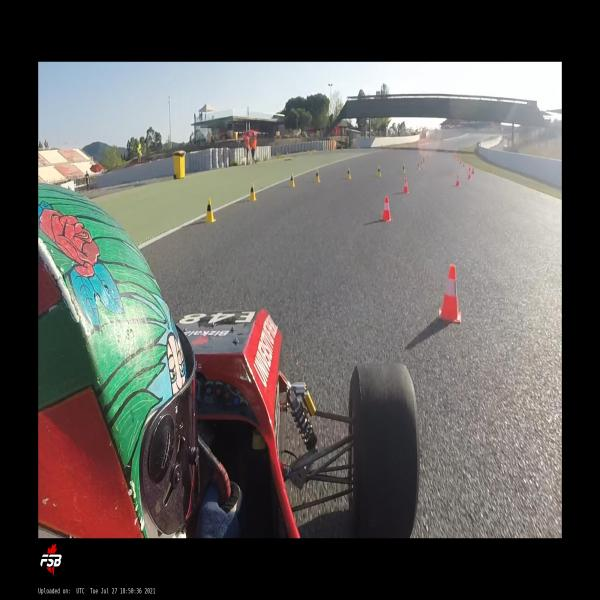orange_cone: (439, 264, 461, 325), (379, 195, 393, 222), (402, 177, 409, 194), (454, 174, 460, 187), (467, 169, 471, 180), (472, 166, 474, 174), (469, 164, 471, 171)
yellow_cone: (205, 197, 216, 222), (249, 182, 257, 202), (314, 167, 321, 184), (289, 172, 295, 188), (346, 168, 352, 180), (377, 165, 382, 177), (402, 163, 406, 174), (417, 161, 420, 170), (420, 160, 422, 166), (423, 158, 425, 164)
